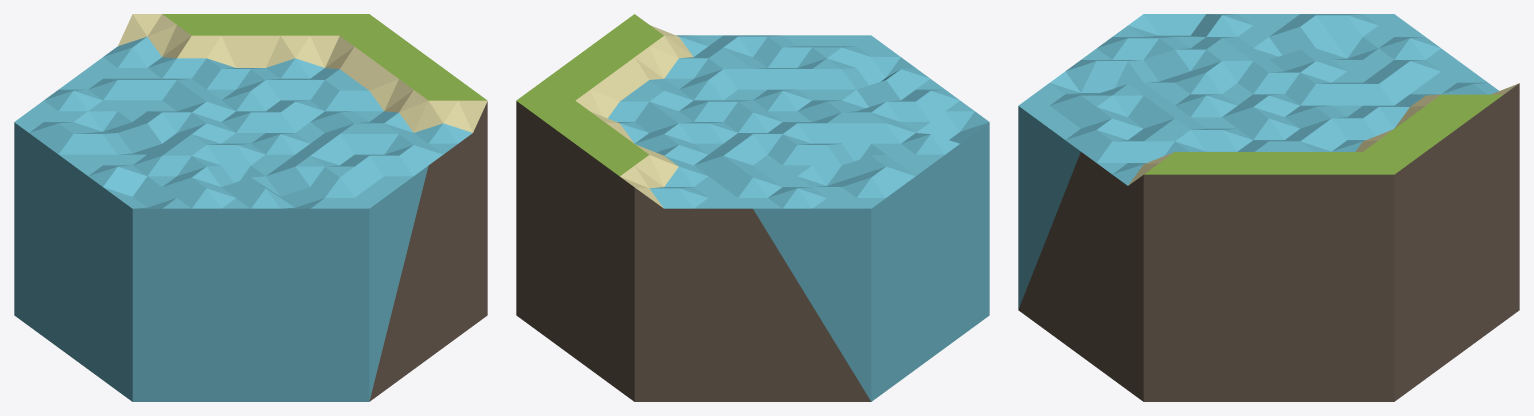
File: coast2.fbx
3 views of the same model, side by side, from view 1: azimuth 30°, elevation 25°; view 2: azimuth 150°, elevation 25°; view 3: azimuth 270°, elevation 25° (orthographic). The views are drawn at different scales.
Parts seen in each view (by area): view 1: Cylinder; view 2: Cylinder; view 3: Cylinder.
Boxes of the visible parts, x1,y1,x2,y2 form: Cylinder: [14, 14, 487, 401]; Cylinder: [516, 14, 989, 401]; Cylinder: [1018, 14, 1519, 401].
Bounding box in the file's own units: 1.73 × 1 × 2.
